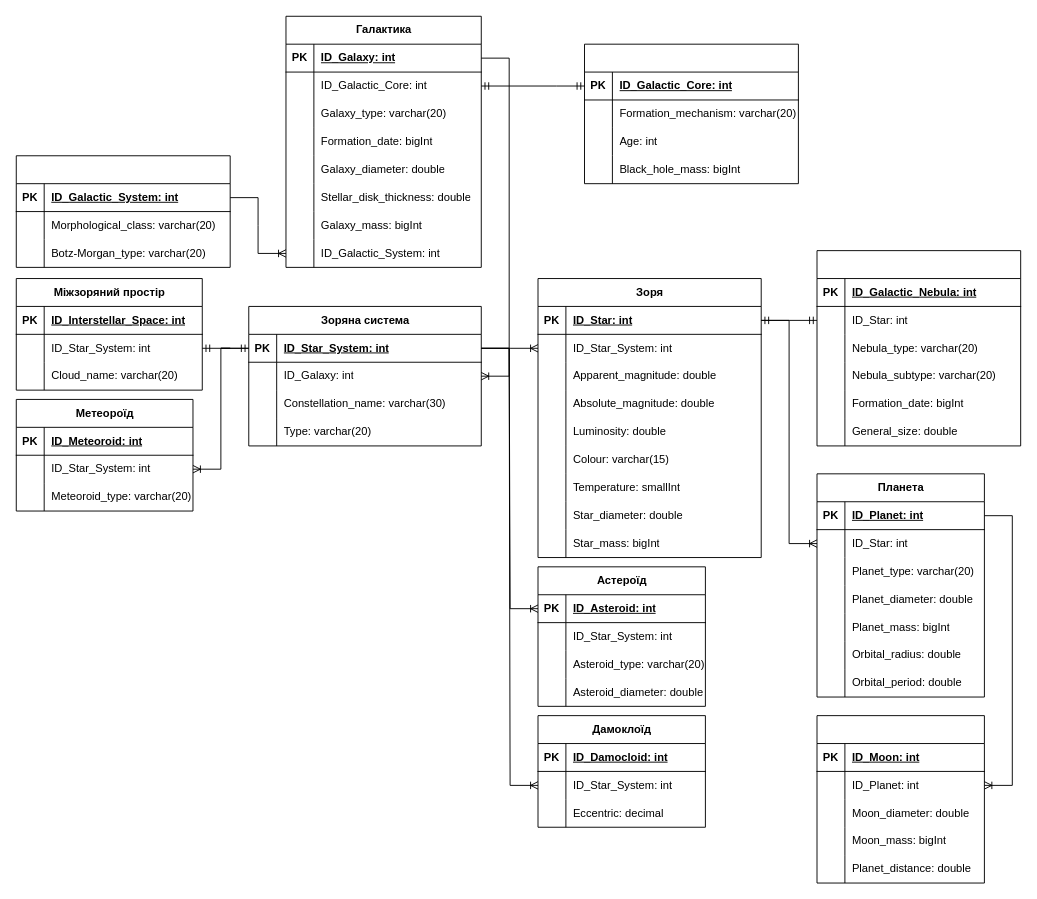
This 1037x899 diagram has some shape labels left out. The box of each missing label's shape, as (x1, y1, x2, y2) in pixels:
Галактична система: (15, 155, 230, 267)
Галактична туманність: (816, 250, 1021, 446)
Галактичне ядро: (584, 43, 798, 184)
Супутник: (816, 715, 984, 883)
